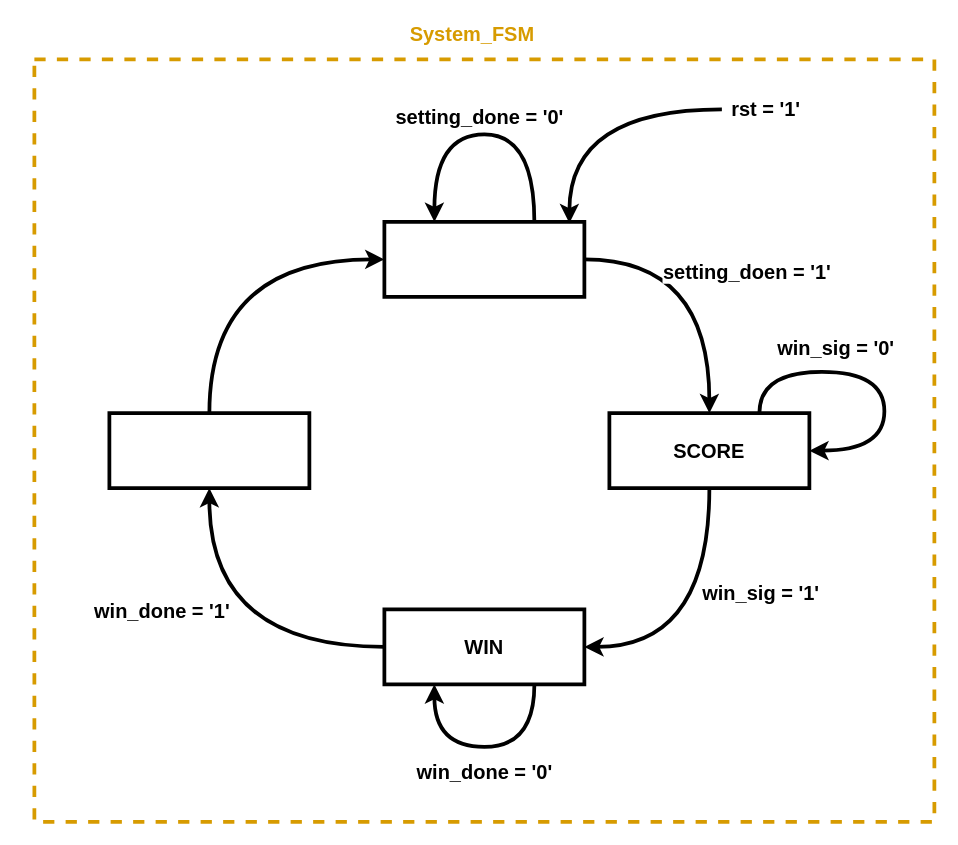
The diagram is 958 pixels wide and 845 high, and some of its shapes have lost their labels. The centre of each missing label's shape, as x and y in pixels:
"RESET_SYSTEM" goes at point 209,450.
"SETTING" goes at point 484,258.
